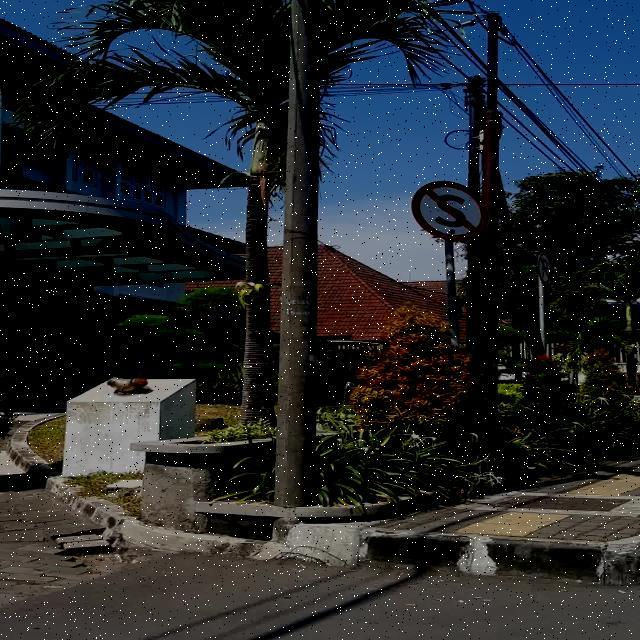Dilarang Berhenti: (412, 181, 488, 240)
